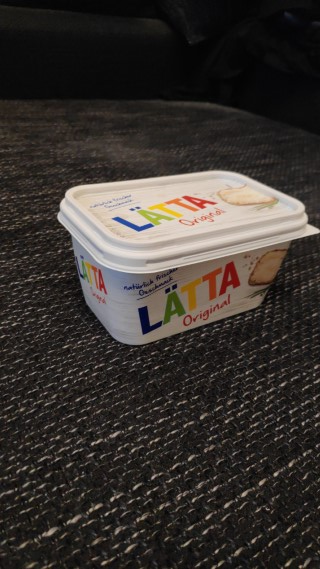laetta: (55, 167, 320, 347)
